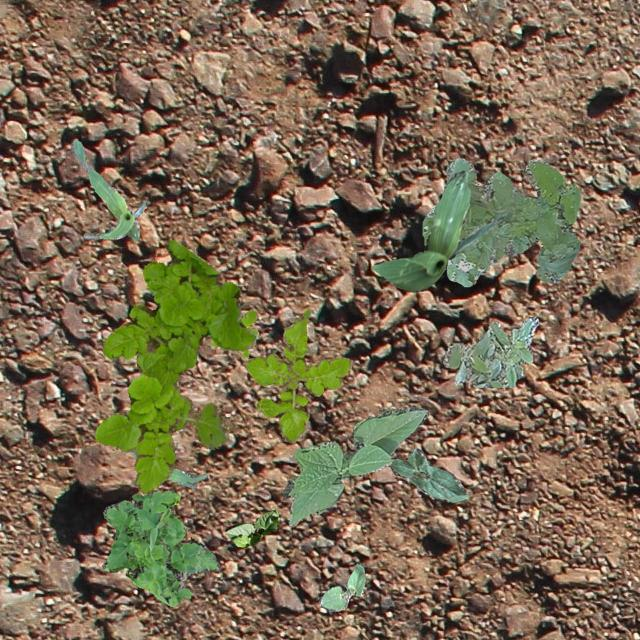crop: (282, 406, 428, 526), (370, 170, 498, 290), (70, 140, 146, 240), (387, 448, 467, 502), (128, 448, 206, 488), (318, 562, 364, 610), (224, 508, 280, 546)
weed: (94, 238, 255, 492), (422, 157, 580, 286), (244, 308, 350, 442), (100, 490, 218, 606), (442, 316, 538, 386), (208, 308, 258, 358)
